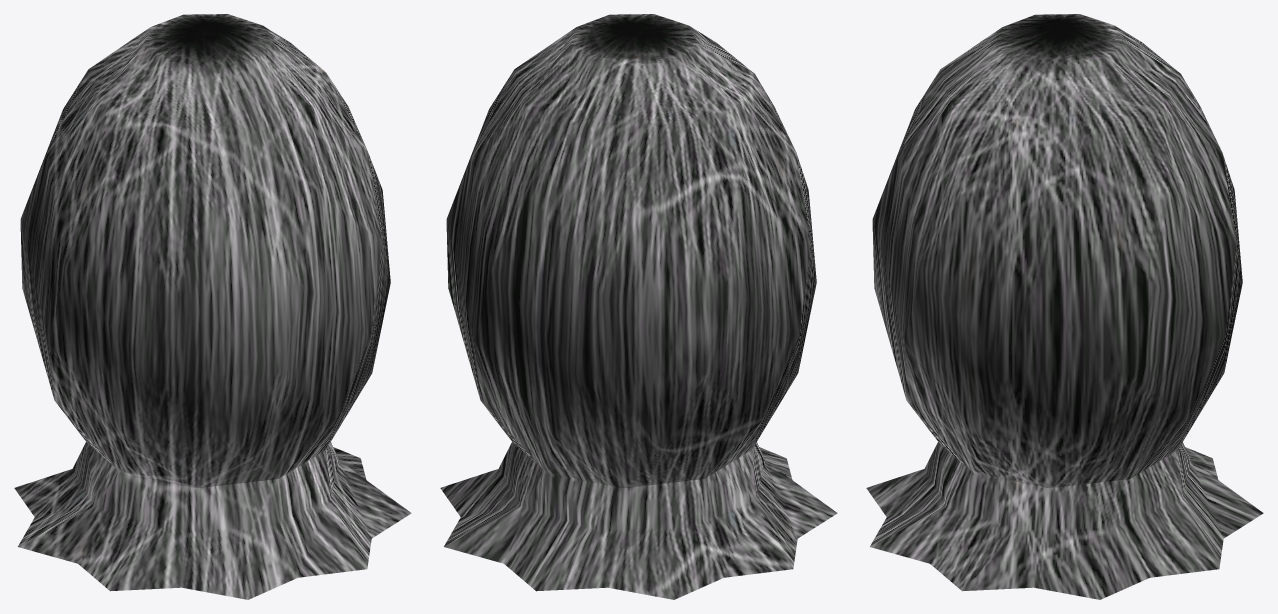
File: INST_EGGSACK.fbx
The picture shows the model from 3 angles, left to right: view 1: azimuth 30°, elevation 25°; view 2: azimuth 150°, elevation 25°; view 3: azimuth 270°, elevation 25°; orthographic projection.
Parts seen in each view (by area): view 1: INST_EGGSACK; view 2: INST_EGGSACK; view 3: INST_EGGSACK.
Boxes of the visible parts, left/top/right/bottom form: INST_EGGSACK: left=14, top=14, right=411, bottom=599; INST_EGGSACK: left=440, top=14, right=837, bottom=599; INST_EGGSACK: left=866, top=14, right=1263, bottom=599.
Size of the model in its own units: 6094 by 8185 by 6028.
2 materials, 2 textured.
